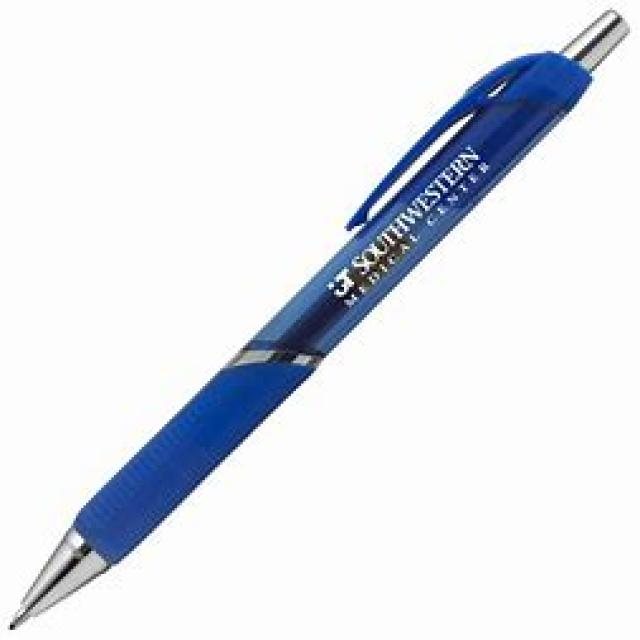pen: (13, 4, 630, 630)
